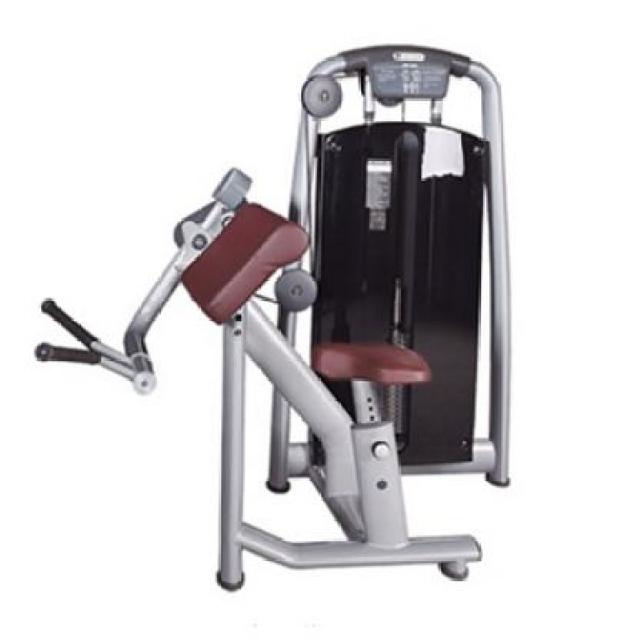arm curl machine: (32, 43, 512, 592)
